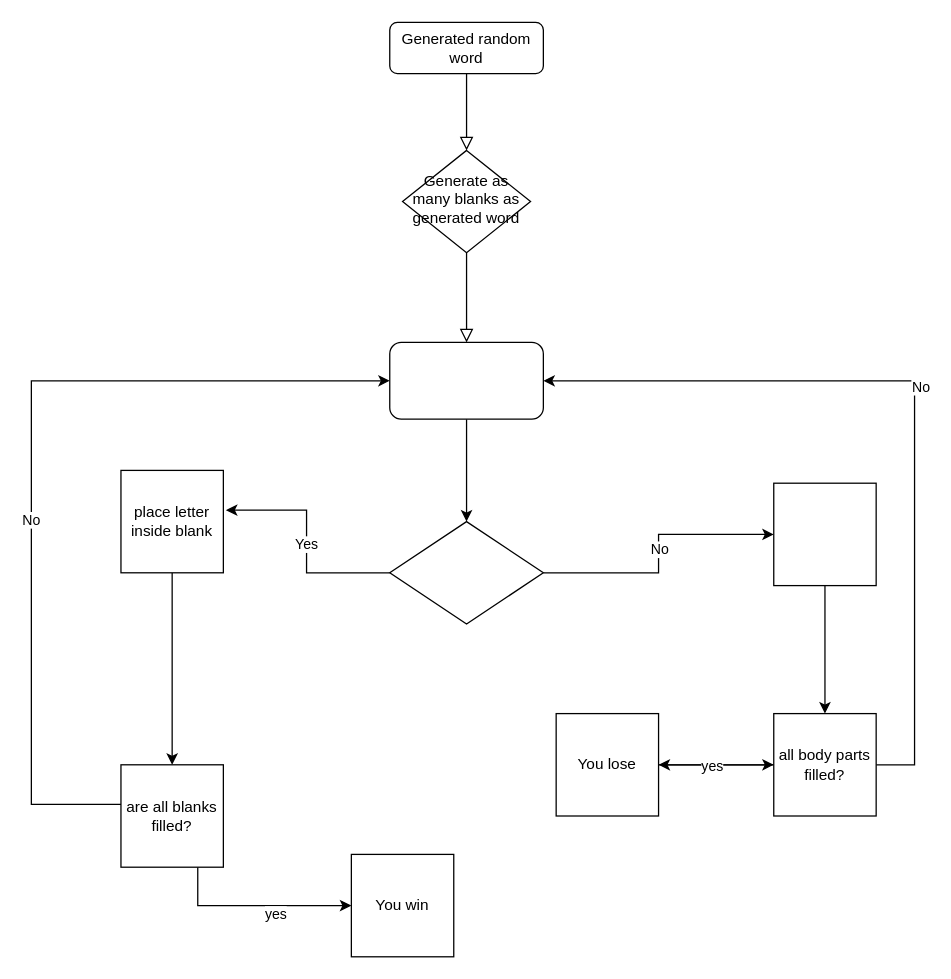
The diagram is 951 pixels wide and 979 high, and some of its shapes have lost their labels. Each missing label, with the centre of its shape:
add body part: point (824, 534)
is guessed letter inside word?: point (465, 572)
user input a letter guess: point (465, 380)
